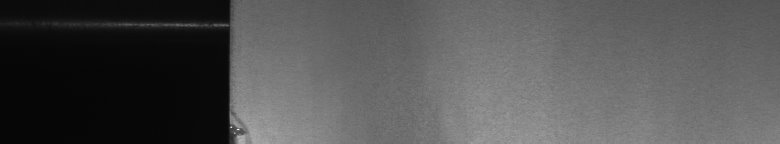hb: (240, 116, 255, 136)
